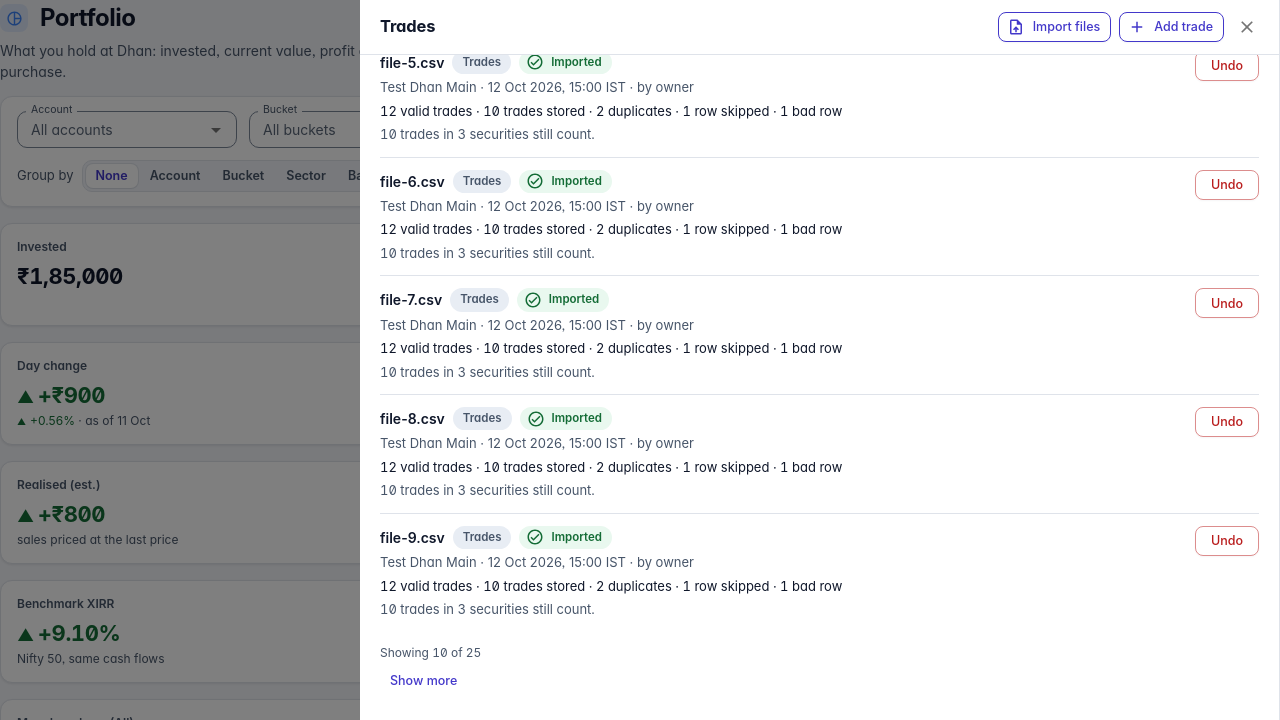
Test: Import history › shows more imports on request
The width and height of the screenshot is (1280, 720).
(page scrolled)
Click the button "Show more" at [424, 680], box [380,666,467,696]
(page scrolled)
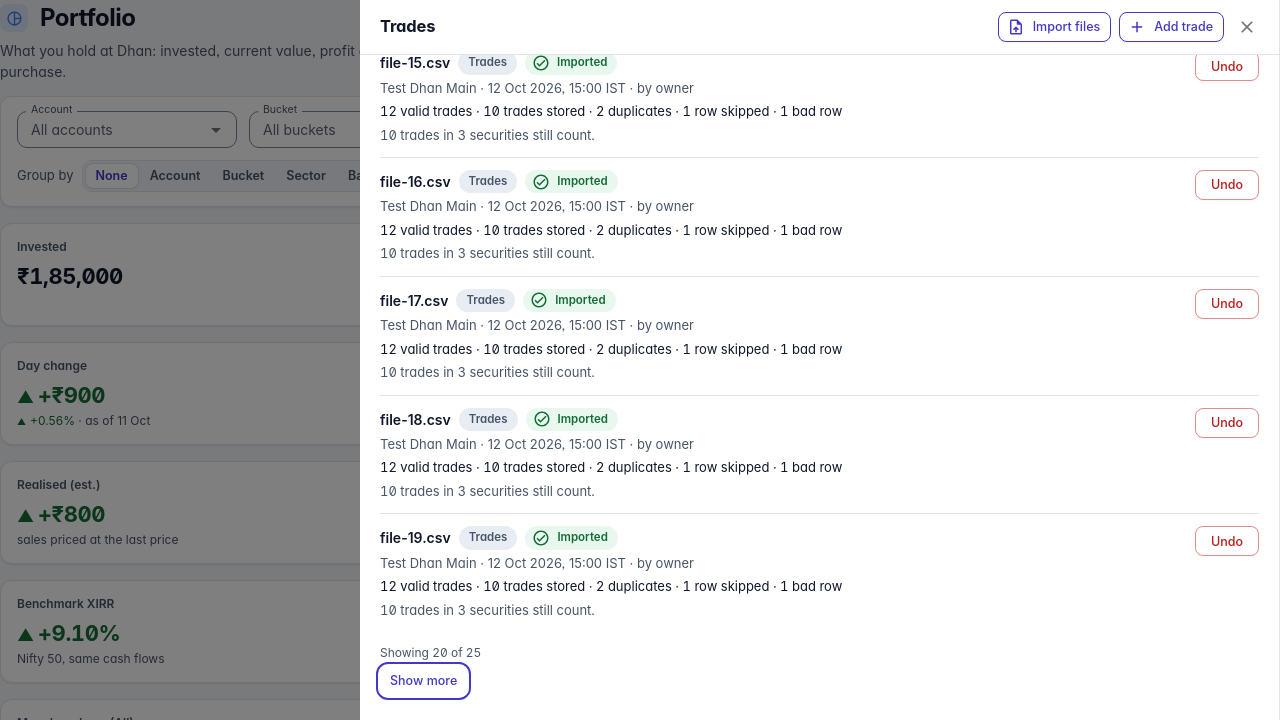
Click the button "Show more" at [424, 681], box [380,666,467,696]
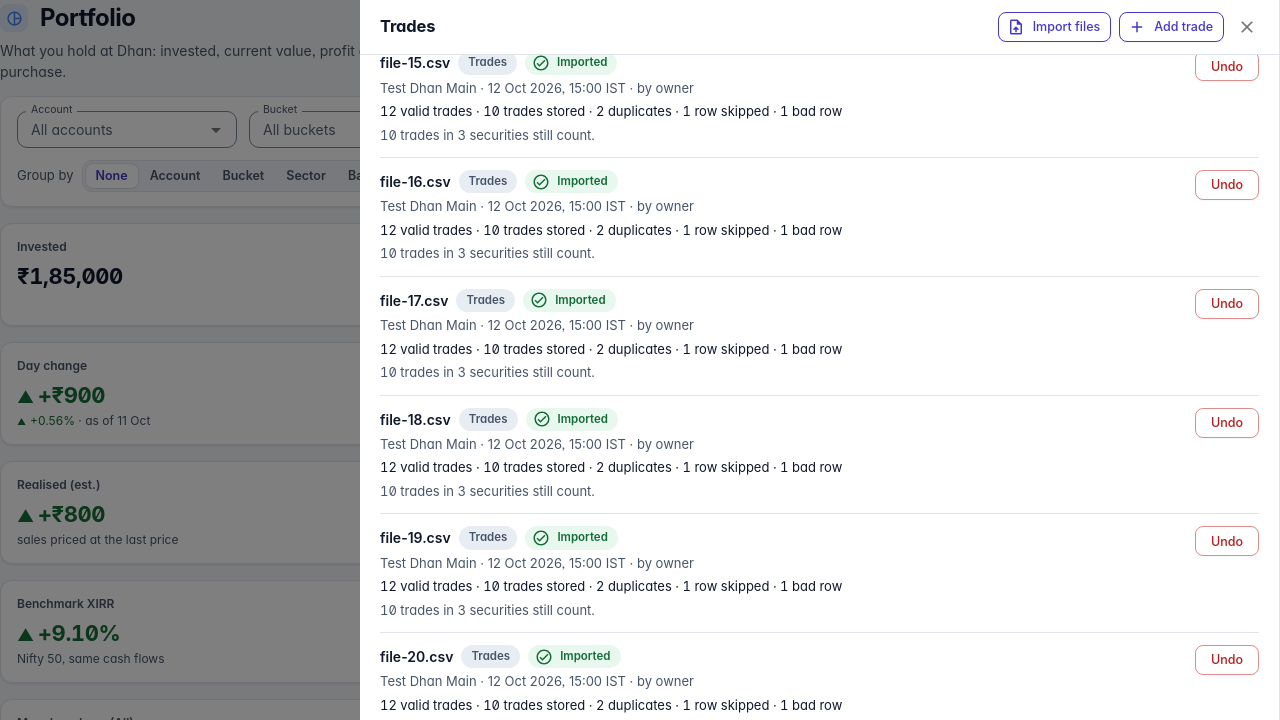
Result: the button "Show more" is gone
